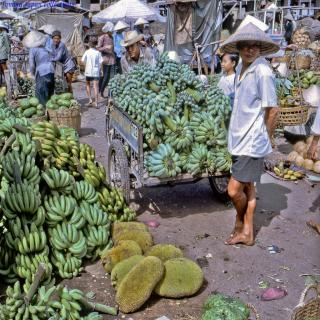Banana: (0, 98, 135, 320), (108, 50, 232, 174), (264, 160, 306, 179), (34, 231, 39, 251)
